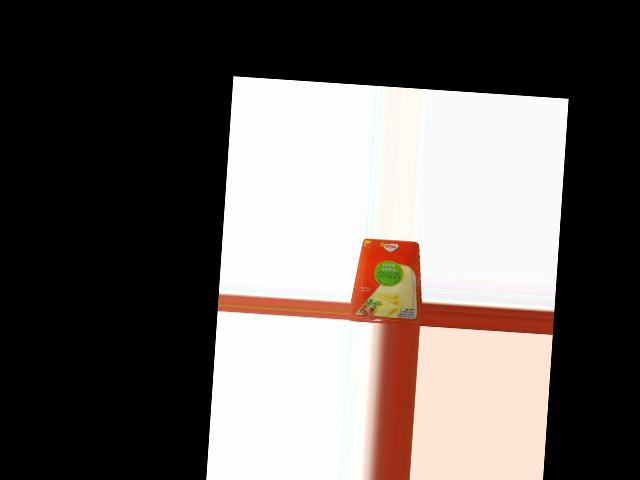cheese: (348, 238, 424, 326)
